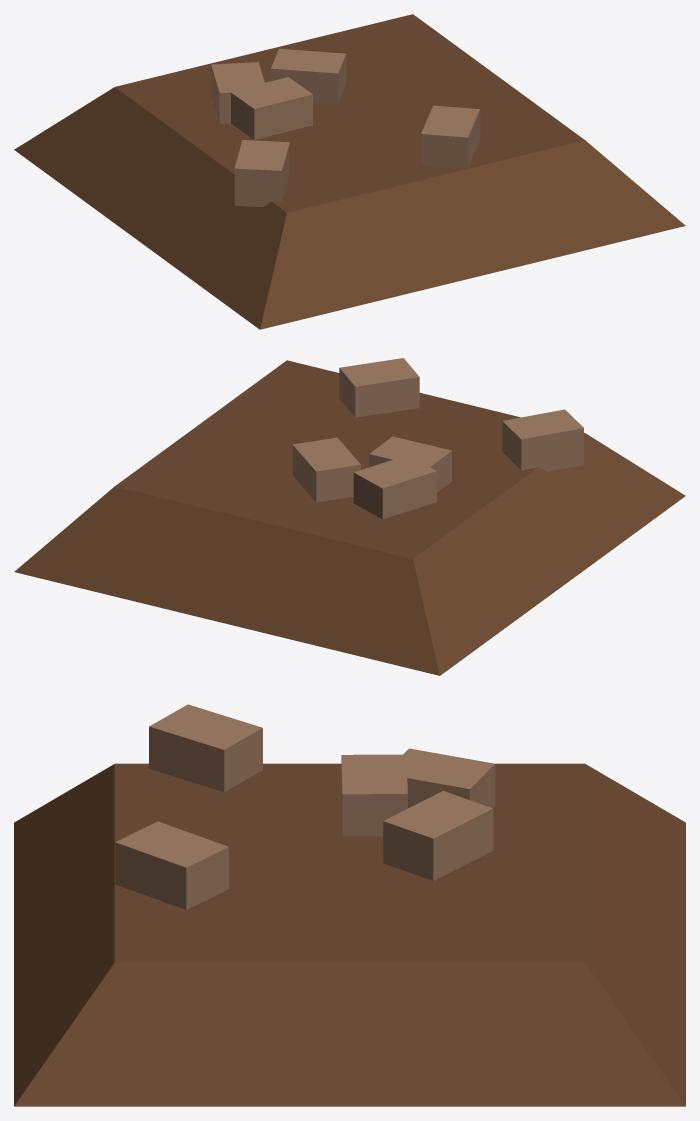
Rendered from cassava_0.obj.
3 views of the same model, one above another, from view 1: azimuth 30°, elevation 25°; view 2: azimuth 150°, elevation 25°; view 3: azimuth 270°, elevation 25° (orthographic). The views are drawn at different scales.
Visible parts, largest first — view 1: plant; view 2: plant; view 3: plant.
Part boxes in pixels (x1,y1,x2,y2): plant: (14,14,685,329); plant: (14,358,685,675); plant: (14,704,685,1106).
Bounding box in the file's own units: 0.36 × 0.085 × 0.36.
